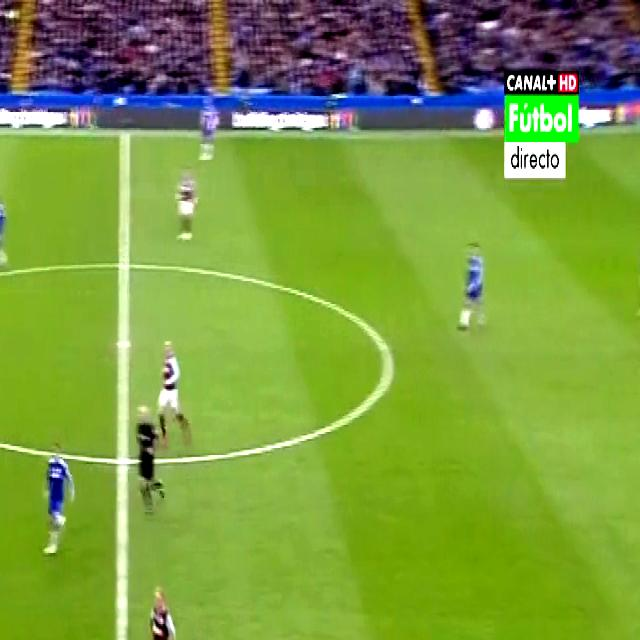referee: (132, 394, 175, 523)
soccer-player: (34, 425, 77, 564), (153, 327, 194, 444), (453, 230, 491, 342), (134, 569, 184, 640), (172, 160, 202, 250), (195, 93, 224, 174), (0, 183, 10, 274)
